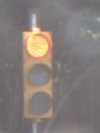Red: (18, 28, 63, 124)
